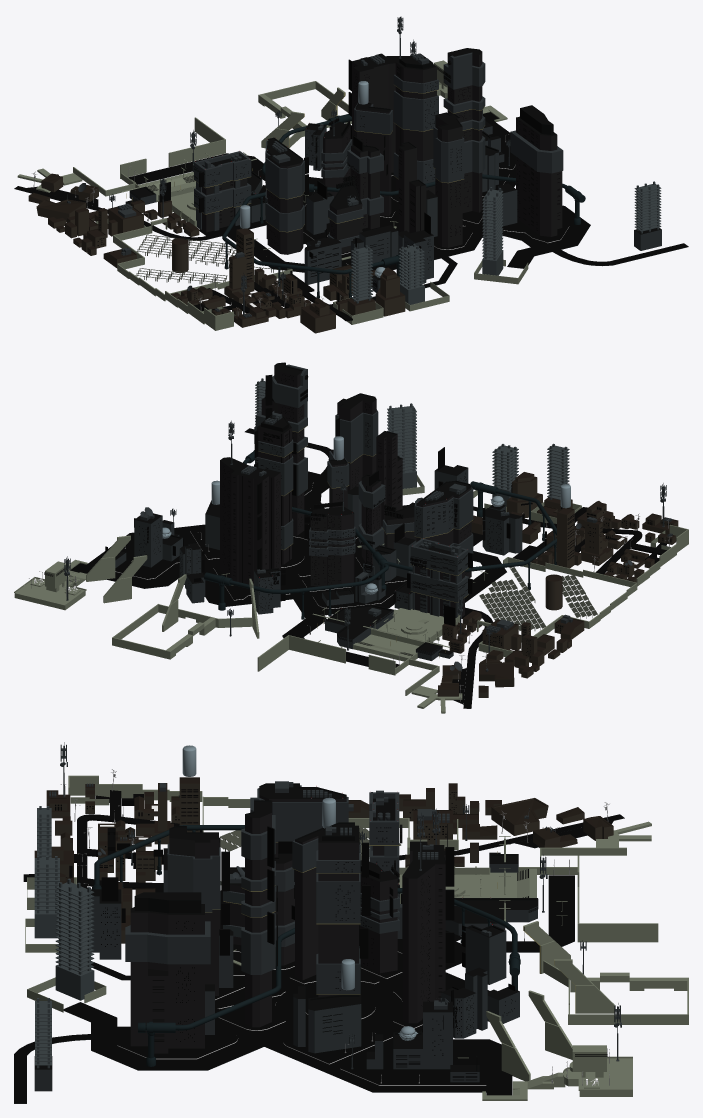
File: cyberpunk_city_small.glb
3 views of the same model, one above another, from view 1: azimuth 30°, elevation 25°; view 2: azimuth 150°, elevation 25°; view 3: azimuth 270°, elevation 25° (orthographic). The views are drawn at different scales.
Parts seen in each view (by area): view 1: node_id26, node_id62, node_id32, node_id74, node_id14, node_id11, node_id59, node_id65, node_id23, node_id56, node_id8, node_id86 (+6 smaller); view 2: node_id26, node_id62, node_id32, node_id74, node_id14, node_id59, node_id11, node_id56, node_id23, node_id86, node_id65, node_id8 (+5 smaller); view 3: node_id26, node_id62, node_id32, node_id14, node_id74, node_id11, node_id8, node_id59, node_id65, node_id56, node_id68, node_id23 (+7 smaller).
Part boxes in pixels (x1,y1,x2,y2): node_id26: (67, 16, 661, 317); node_id62: (202, 52, 562, 254); node_id32: (17, 60, 528, 330); node_id74: (28, 174, 405, 333); node_id14: (14, 112, 688, 321); node_id11: (15, 171, 686, 304); node_id59: (29, 173, 404, 319); node_id65: (202, 48, 556, 209); node_id23: (222, 114, 585, 298); node_id56: (126, 121, 661, 280); node_id8: (303, 130, 569, 265); node_id86: (135, 234, 283, 284); node_id26: (64, 364, 672, 671); node_id62: (220, 366, 471, 617); node_id32: (14, 475, 688, 713); node_id74: (437, 474, 678, 697); node_id14: (70, 428, 666, 708); node_id59: (438, 472, 677, 692); node_id11: (106, 378, 569, 708); node_id56: (115, 426, 521, 654); node_id23: (204, 450, 556, 619); node_id86: (479, 562, 597, 630); node_id65: (220, 362, 471, 555); node_id8: (115, 480, 406, 608); node_id26: (34, 742, 621, 1091); node_id62: (130, 795, 445, 1053); node_id32: (25, 775, 688, 1100); node_id14: (14, 790, 624, 1103); node_id74: (46, 783, 613, 943); node_id11: (14, 806, 624, 1103); node_id8: (117, 925, 486, 1084); node_id59: (34, 777, 612, 930); node_id65: (130, 783, 445, 975); node_id56: (34, 848, 537, 1071); node_id68: (69, 826, 514, 1028); node_id23: (91, 825, 520, 1066).
Size of the model in its own units: 0.3689 by 0.1249 by 0.3549.
Materials: 30 (30 with a texture image).
